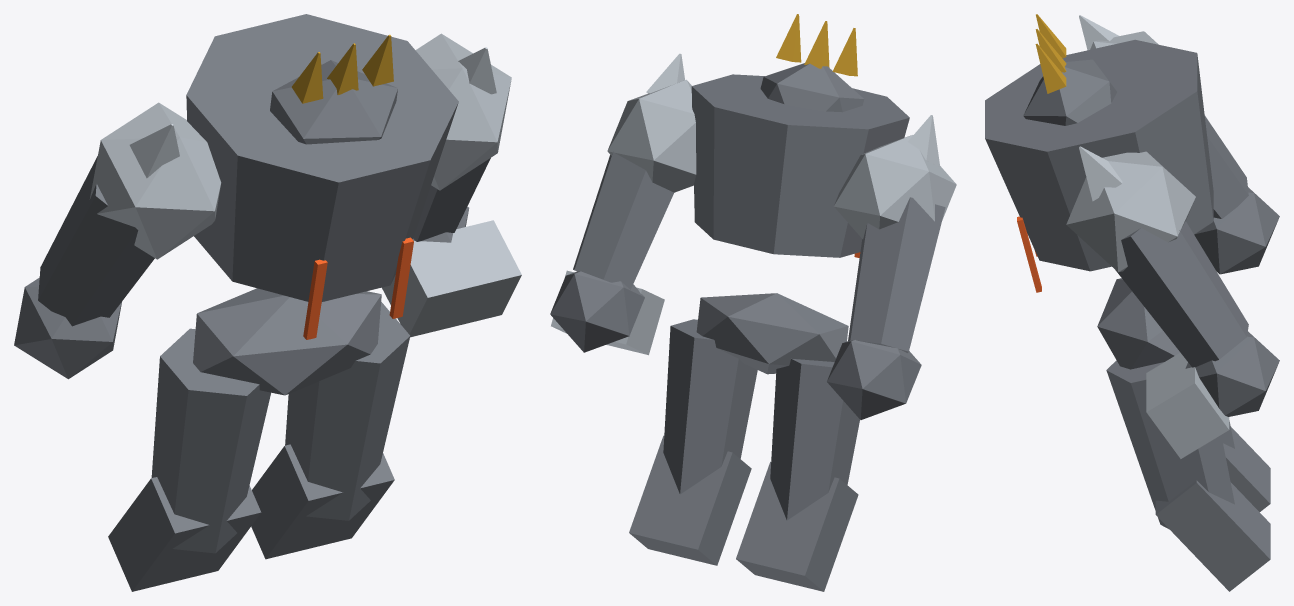
The model's file is npcpose_colossus_attack_08.glb.
3 views of the same model, side by side, from view 1: azimuth 30°, elevation 25°; view 2: azimuth 150°, elevation 25°; view 3: azimuth 270°, elevation 25° (orthographic). The views are drawn at different scales.
Visible parts, largest first — view 1: npcpose; view 2: npcpose; view 3: npcpose.
Boxes of the visible parts, x1,y1,x2,y2 form: npcpose: (14, 14, 521, 591); npcpose: (550, 14, 956, 591); npcpose: (985, 14, 1279, 591).
Bounding box in the file's own units: 2.3 × 2.94 × 1.52.
